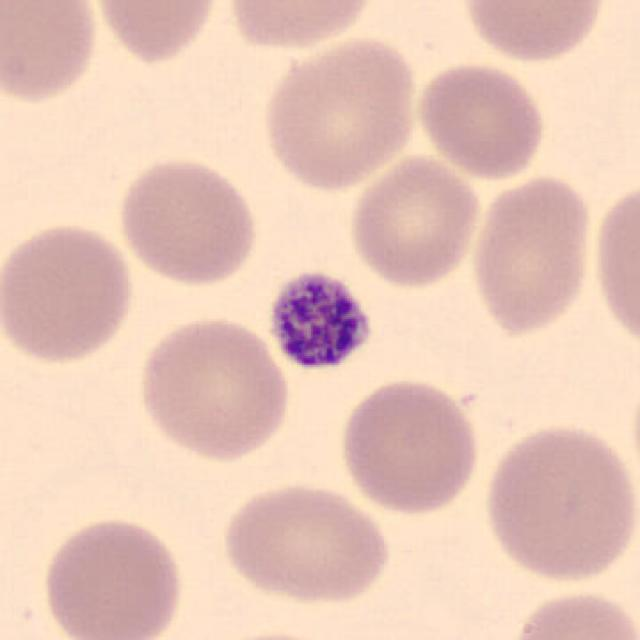Platelets: (263, 264, 377, 372)
RBC: (256, 33, 423, 194), (478, 418, 636, 587), (133, 310, 295, 464), (217, 478, 395, 606), (466, 171, 597, 340), (334, 374, 484, 518), (0, 217, 139, 368), (114, 152, 263, 289), (345, 152, 483, 291), (37, 513, 187, 640), (412, 58, 550, 182), (0, 0, 103, 108), (457, 0, 610, 65), (87, 0, 224, 67), (588, 173, 638, 356), (222, 0, 379, 53), (502, 585, 638, 640), (192, 626, 364, 640)
